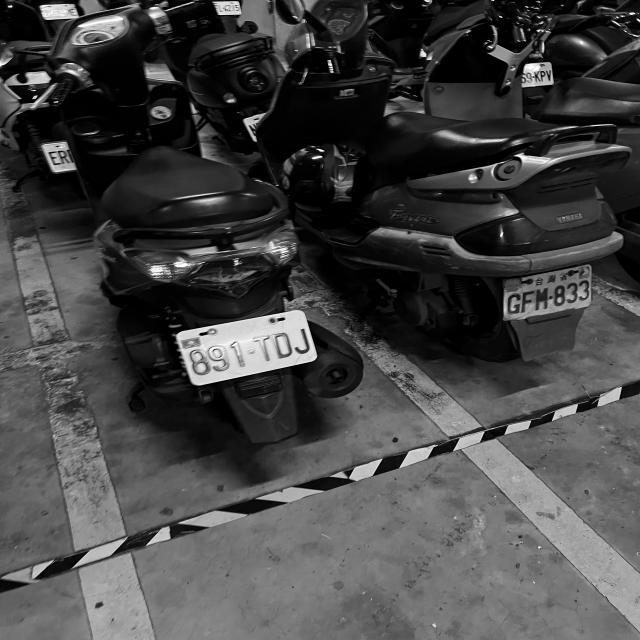-: (246, 347, 257, 358), (549, 295, 554, 300)
1: (227, 337, 249, 371)
3: (578, 279, 590, 302), (566, 282, 578, 304)
8: (186, 345, 217, 380), (554, 284, 566, 306)
9: (206, 342, 234, 374)
D: (179, 311, 319, 385), (502, 268, 591, 320), (269, 330, 297, 361)
F: (521, 290, 534, 314)
G: (507, 292, 521, 314)
J: (289, 326, 315, 356)
M: (535, 287, 548, 311)
T: (251, 333, 277, 365)
